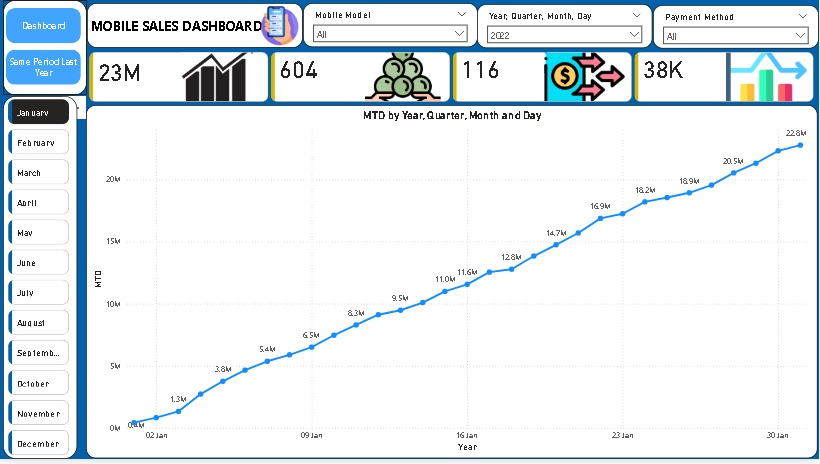

What the dashboard file says about the page in this screenshot:
{"tool":"powerbi","page":{"name":"MTD Report","canvas":[1280,720],"ordinal":1},"visuals":[{"type":"shape","box":[5.7,2.9,131.4,148.6],"z":0},{"type":"cardVisual","fields":{"Data":["Sales_data.Total sales","Sales_data.Total Quantity","Sales_data.Transaction","Sales_data.Average"]},"box":[136.7,83.8,1143.2,83.8],"z":1000},{"type":"slicer","fields":{"Values":["Sales_data.Mobile Model"]},"box":[474.3,8.6,272.9,68.6],"z":2000},{"type":"slicer","fields":{"Values":["Sales_data.Payment Method"]},"box":[1021.2,10.3,258.6,67.6],"z":3000},{"type":"slicer","fields":{"Values":["Custom_calendar.Date.Variation.Date Hierarchy.Year","Custom_calendar.Date.Variation.Date Hierarchy.Quarter","Custom_calendar.Date.Variation.Date Hierarchy.Month","Custom_calendar.Date.Variation.Date Hierarchy.Day"]},"box":[747.1,10,274.3,68.6],"z":4000},{"type":"lineChart","fields":{"Y":["Sales_data.MTD"],"Category":["Custom_calendar.Date.Variation.Date Hierarchy.Year","Custom_calendar.Date.Variation.Date Hierarchy.Quarter","Custom_calendar.Date.Variation.Date Hierarchy.Month","Custom_calendar.Date.Variation.Date Hierarchy.Day"]},"box":[136.7,167.5,1143.2,552.5],"z":6000},{"type":"shape","box":[5.7,152.9,115.7,567.1],"z":7000},{"type":"advancedSlicerVisual","fields":{"Values":["Custom_calendar.Date.Variation.Date Hierarchy.Month"]},"box":[10,152.9,105.7,567.1],"z":8000},{"type":"pageNavigator","box":[11.4,15.7,117.1,121.4],"z":9000},{"type":"shape","box":[137.1,7.1,337.1,70],"z":9001},{"type":"image","box":[402.9,8.6,71.4,71.4],"z":9002}]}

Visuals, with their boxes in screenshot pixels (x1, y1, x2, y2), scaled from the page's 1280x720 canvas onto the 820x464 screenshot:
shape: 4:2:88:98
cardVisual - Sales_data.Total sales x Sales_data.Total Quantity: 88:54:819:108
slicer - Sales_data.Mobile Model: 304:6:479:50
slicer - Sales_data.Payment Method: 654:7:819:50
slicer - Custom_calendar.Date.Variation.Date Hierarchy.Year x Custom_calendar.Date.Variation.Date Hierarchy.Quarter: 479:6:654:51
lineChart - Sales_data.MTD x Custom_calendar.Date.Variation.Date Hierarchy.Year: 88:108:819:463
shape: 4:99:78:463
advancedSlicerVisual - Custom_calendar.Date.Variation.Date Hierarchy.Month: 6:99:74:463
pageNavigator: 7:10:82:88
shape: 88:5:304:50
image: 258:6:304:52
